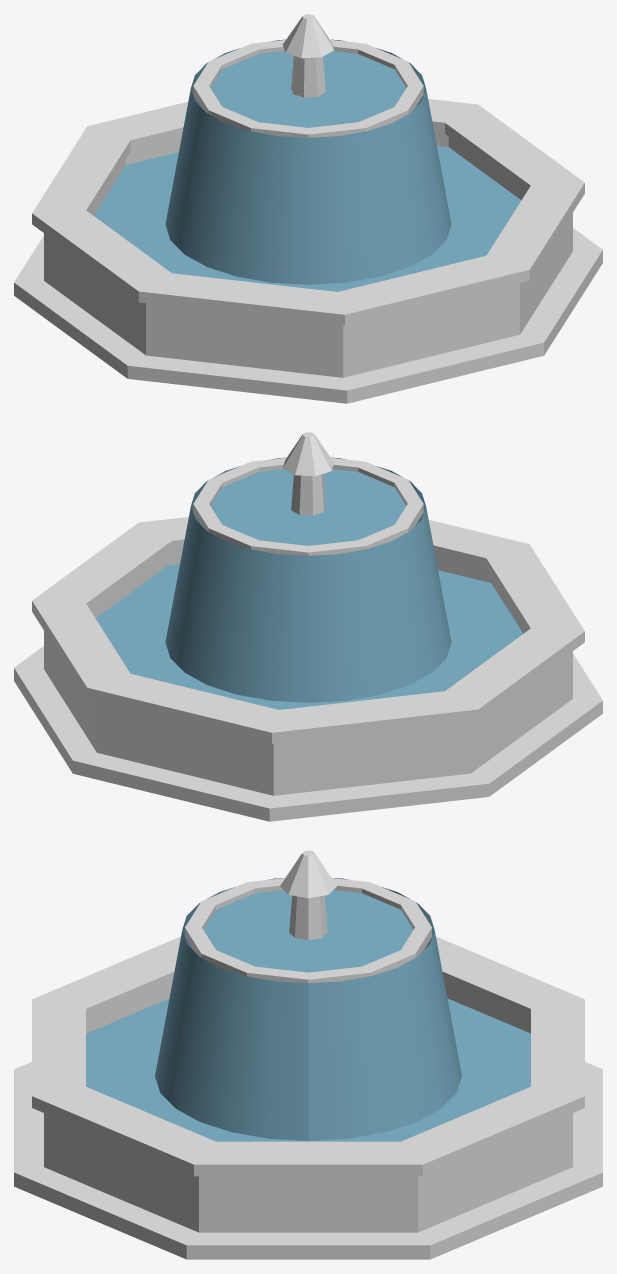
The model's file is fountain.glb.
3 renders of one model, top to bottom at view 1: azimuth 30°, elevation 25°; view 2: azimuth 150°, elevation 25°; view 3: azimuth 270°, elevation 25°, orthographic. The views are drawn at different scales.
Visible parts, largest first — view 1: fountain, fountain_water_fall, fountain_water_low, fountain_water_high; view 2: fountain, fountain_water_fall, fountain_water_low, fountain_water_high; view 3: fountain, fountain_water_fall, fountain_water_low, fountain_water_high.
Boxes of the visible parts, left/top/right/bottom form: fountain: left=14, top=14, right=602, bottom=403; fountain_water_fall: left=165, top=39, right=451, bottom=284; fountain_water_low: left=93, top=146, right=521, bottom=291; fountain_water_high: left=210, top=51, right=406, bottom=127; fountain: left=14, top=432, right=602, bottom=821; fountain_water_fall: left=165, top=457, right=451, bottom=702; fountain_water_low: left=95, top=564, right=523, bottom=709; fountain_water_high: left=210, top=469, right=406, bottom=545; fountain: left=14, top=850, right=602, bottom=1259; fountain_water_fall: left=155, top=878, right=461, bottom=1140; fountain_water_low: left=86, top=998, right=530, bottom=1141; fountain_water_high: left=203, top=890, right=413, bottom=972.
Size of the model in its own units: 4.53 by 2.39 by 4.53.
